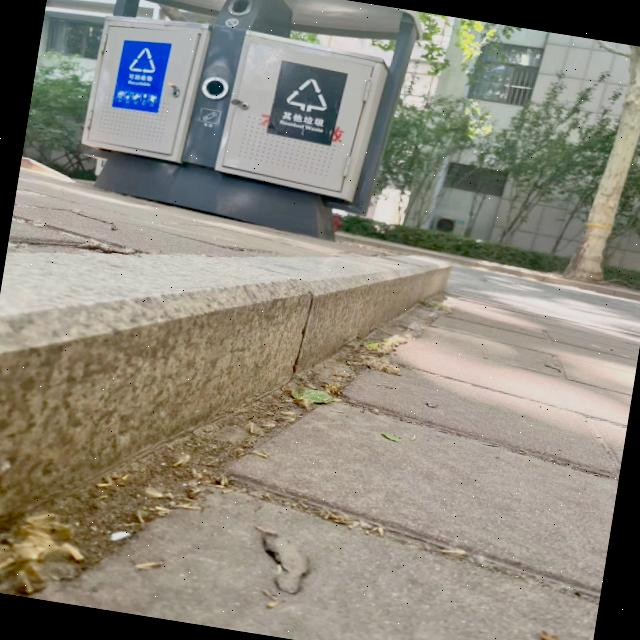curb: (1, 188, 438, 619)
